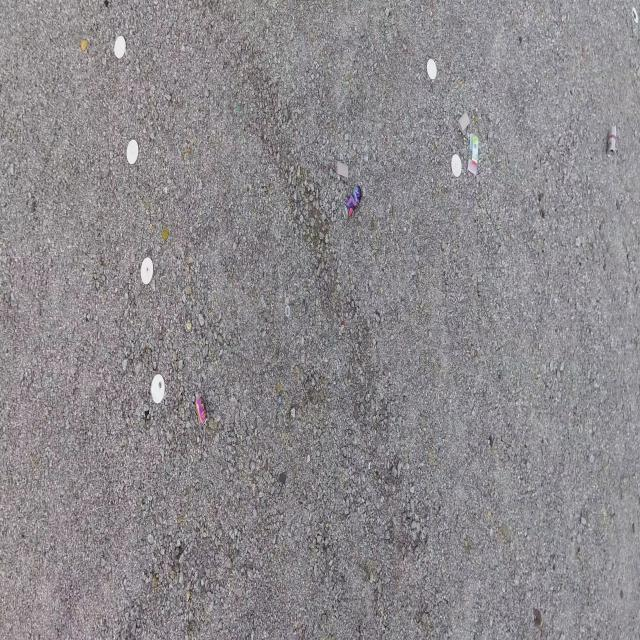rubbish: (468, 132, 480, 177), (195, 393, 208, 427), (607, 126, 617, 156), (457, 112, 471, 133), (336, 160, 349, 179), (285, 305, 290, 316)
